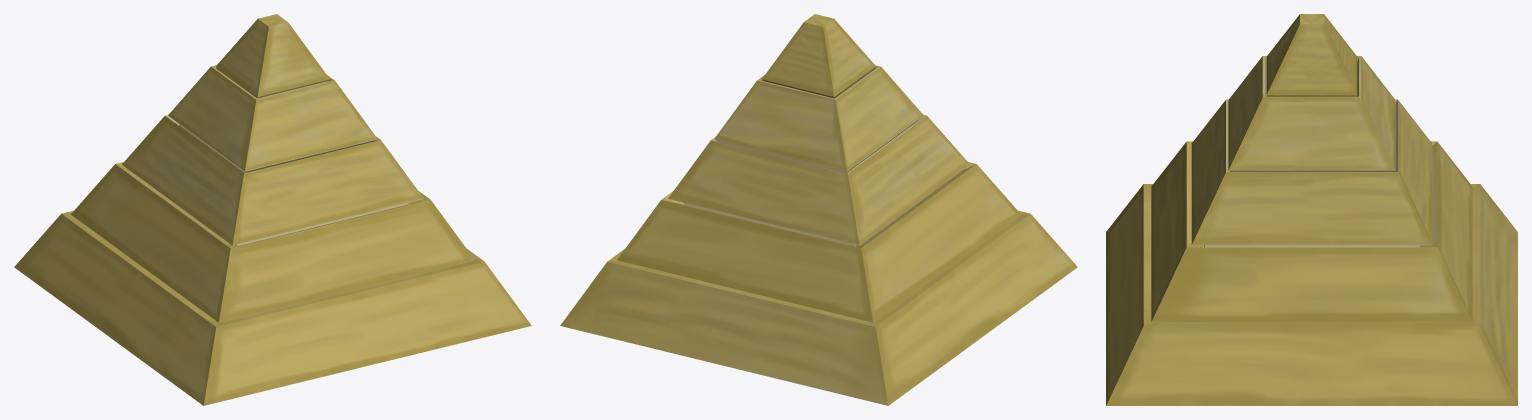
Rendered from piramit.fbx.
3 renders of one model, left to right at view 1: azimuth 30°, elevation 25°; view 2: azimuth 150°, elevation 25°; view 3: azimuth 270°, elevation 25°, orthographic. The views are drawn at different scales.
Parts seen in each view (by area): view 1: piramit; view 2: piramit; view 3: piramit.
Boxes of the visible parts, box(x1,y1,x2,y2) form: piramit: box(14, 14, 531, 405); piramit: box(560, 14, 1077, 405); piramit: box(1106, 14, 1517, 405).
Bounding box in the file's own units: 2881 × 2316 × 2881.
Materials: 1 (1 with a texture image).
